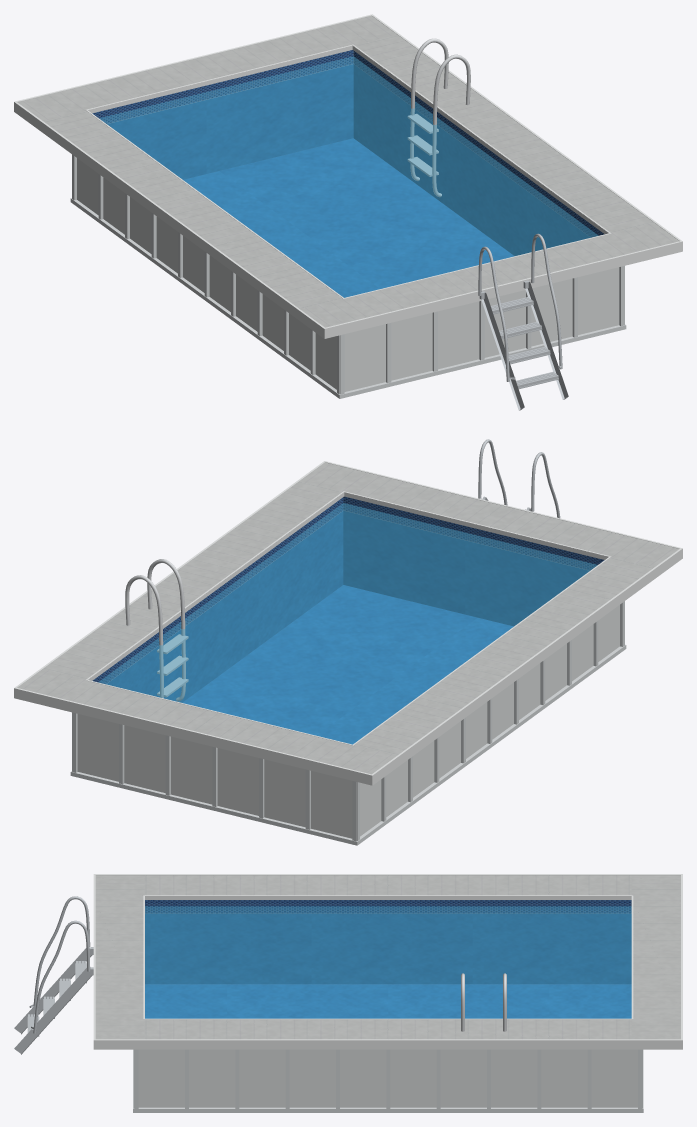
File: kayak-pool-12x20-white-walk-ag-nofence.6dd9bf7fc3.glb
The picture shows the model from 3 angles, top to bottom: view 1: azimuth 30°, elevation 25°; view 2: azimuth 150°, elevation 25°; view 3: azimuth 270°, elevation 25°; orthographic projection. The views are drawn at different scales.
Parts seen in each view (by area): view 1: water, deck, liner_wall, liner_floor, wall, fascia, upright, ladder, steel; view 2: water, deck, liner_wall, liner_floor, wall, fascia, upright, steel, ladder; view 3: water, liner_wall, deck, wall, liner_floor, fascia, upright, ladder, steel.
Boxes of the visible parts, x1=… form: water: x1=99, y1=56, x2=598, y2=297; deck: x1=18, y1=16, x2=679, y2=327; liner_wall: x1=92, y1=50, x2=604, y2=255; liner_floor: x1=183, y1=138, x2=513, y2=297; wall: x1=77, y1=158, x2=619, y2=391; fascia: x1=14, y1=14, x2=682, y2=338; upright: x1=70, y1=154, x2=626, y2=398; ladder: x1=478, y1=233, x2=568, y2=410; steel: x1=407, y1=38, x2=470, y2=196; water: x1=98, y1=503, x2=597, y2=744; deck: x1=17, y1=462, x2=678, y2=774; liner_wall: x1=92, y1=496, x2=604, y2=702; liner_floor: x1=182, y1=585, x2=513, y2=744; wall: x1=77, y1=605, x2=619, y2=838; fascia: x1=14, y1=461, x2=682, y2=785; upright: x1=70, y1=601, x2=626, y2=845; steel: x1=125, y1=559, x2=188, y2=701; ladder: x1=478, y1=439, x2=560, y2=518; water: x1=145, y1=906, x2=631, y2=1018; liner_wall: x1=145, y1=900, x2=631, y2=984; deck: x1=95, y1=875, x2=680, y2=1039; wall: x1=138, y1=1049, x2=637, y2=1107; liner_floor: x1=145, y1=984, x2=631, y2=1018; fascia: x1=93, y1=874, x2=682, y2=1049; upright: x1=133, y1=1049, x2=643, y2=1112; ladder: x1=14, y1=896, x2=93, y2=1054; steel: x1=461, y1=973, x2=506, y2=1031.
Bounding box in the file's own units: 4.88 × 1.9 × 8.3.
10 materials, 3 textured.
